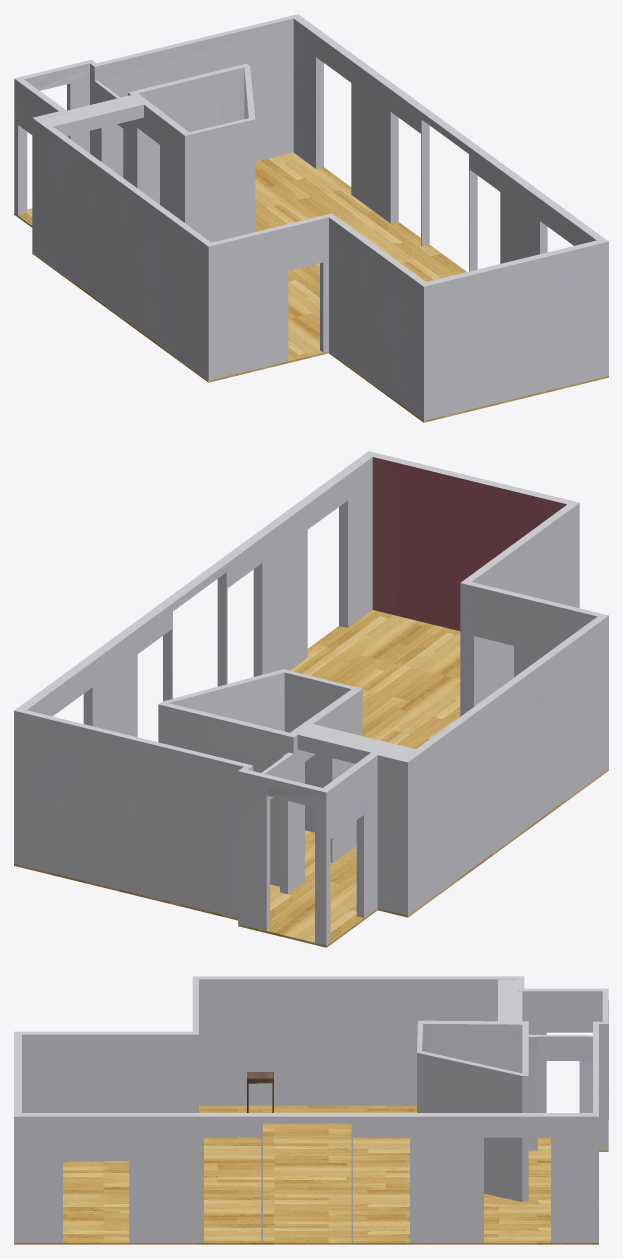
File: bridge_table_1_v2.fbx
The picture shows the model from 3 angles, top to bottom: view 1: azimuth 30°, elevation 25°; view 2: azimuth 150°, elevation 25°; view 3: azimuth 270°, elevation 25°; orthographic projection. The views are drawn at different scales.
Visible parts, largest first — view 1: frl_apartment_wall, frl_apartment_floor; view 2: frl_apartment_wall, frl_apartment_floor; view 3: frl_apartment_wall, frl_apartment_floor, frl_apartment_table_01.
Part boxes in pixels (bbox=[...]): frl_apartment_wall: bbox=[14, 14, 608, 420]; frl_apartment_floor: bbox=[14, 152, 608, 422]; frl_apartment_wall: bbox=[14, 451, 608, 945]; frl_apartment_floor: bbox=[14, 610, 608, 947]; frl_apartment_wall: bbox=[14, 976, 608, 1242]; frl_apartment_floor: bbox=[14, 1105, 608, 1244]; frl_apartment_table_01: bbox=[247, 1072, 273, 1112].
Size of the model in its own units: 7.26 by 3.09 by 13.
Materials: 3 (3 with a texture image).
